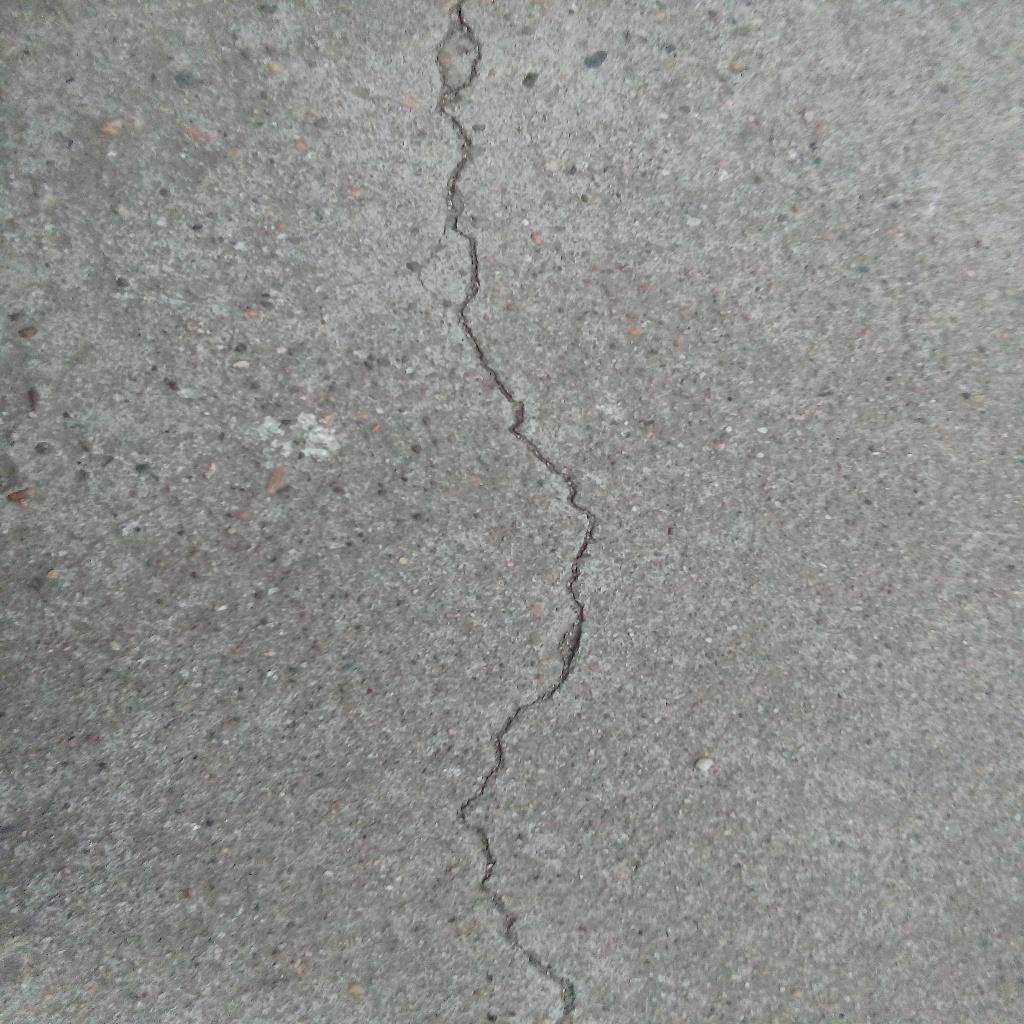Crack: (436, 1, 603, 1024)
